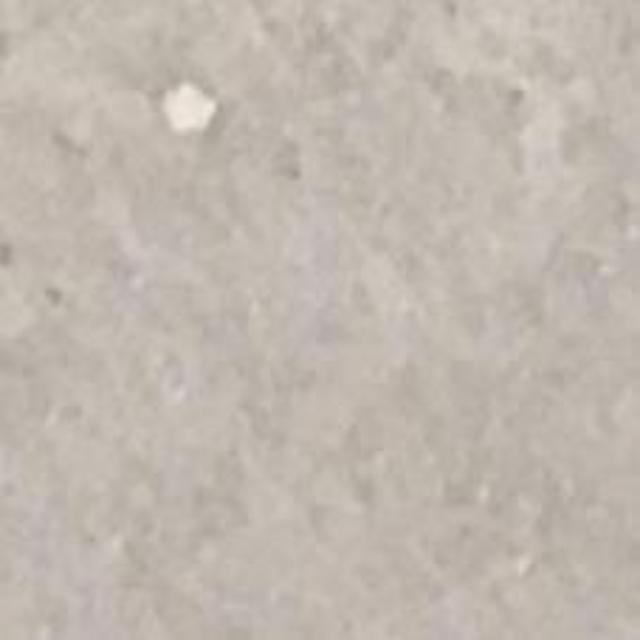peeling plaster: (161, 82, 219, 135)
